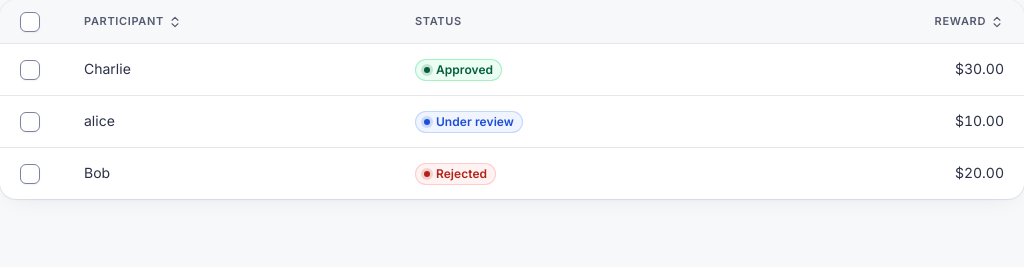
DataTable › supports row selection including select-all
Click the checkbox named "Select Bob" next to "Bob". click: point(30, 174)
box: [20,164,40,184]
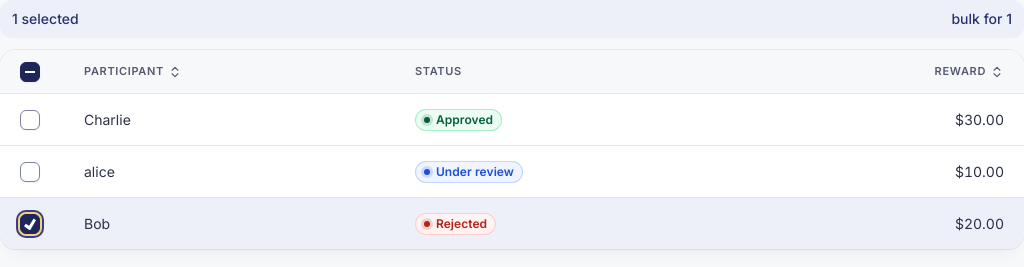
Expected: the text "bulk for 1" is shown, [952,8,1012,30]
Click the checkbox named "Select all rows" in the row of "Status". click: point(30, 72)
box: [20,62,40,82]
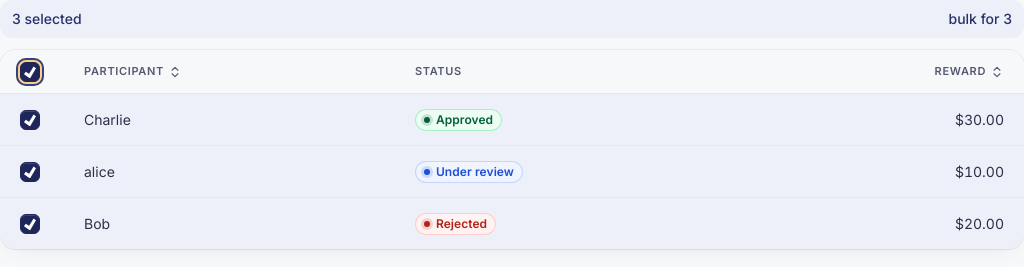
Expected: the text "bulk for 3" is shown, [948,8,1012,30]
